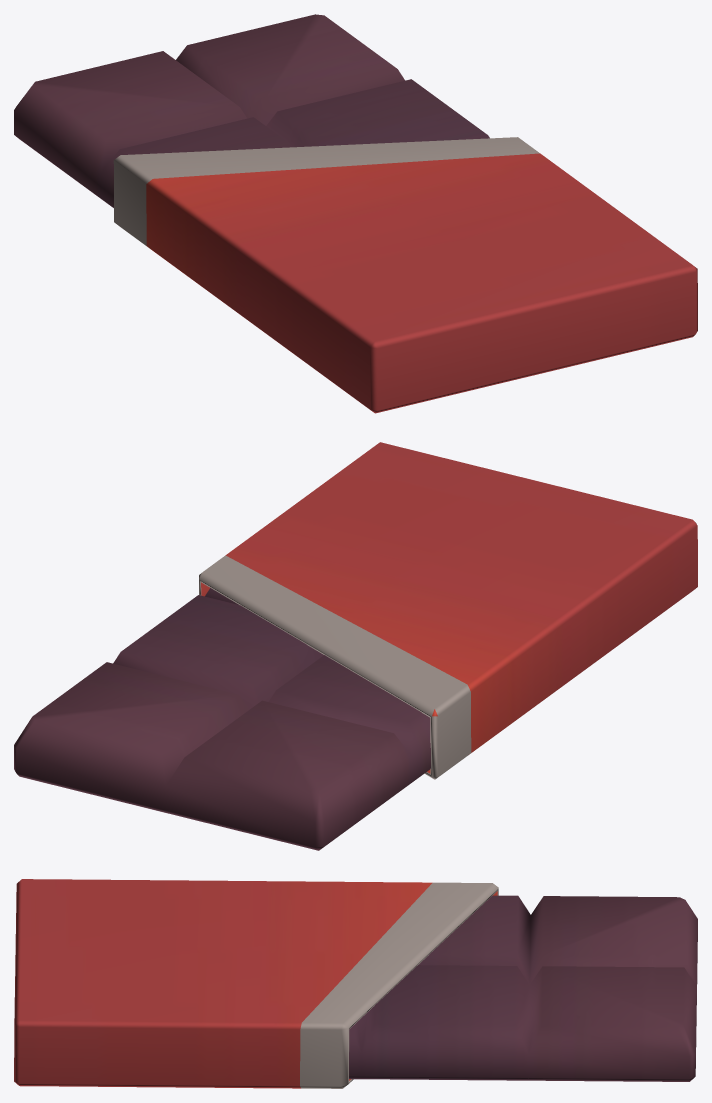
The model's file is Chocolate Bar.fbx.
3 renders of one model, top to bottom at view 1: azimuth 30°, elevation 25°; view 2: azimuth 150°, elevation 25°; view 3: azimuth 270°, elevation 25°, orthographic. The views are drawn at different scales.
Visible parts, largest first — view 1: Chocolate Bar; view 2: Chocolate Bar; view 3: Chocolate Bar.
Boxes of the visible parts, x1=… form: Chocolate Bar: x1=14, y1=14, x2=697, y2=413; Chocolate Bar: x1=14, y1=442, x2=697, y2=850; Chocolate Bar: x1=14, y1=879, x2=697, y2=1088.
Size of the model in its own units: 20.8 by 4.53 by 41.01.
